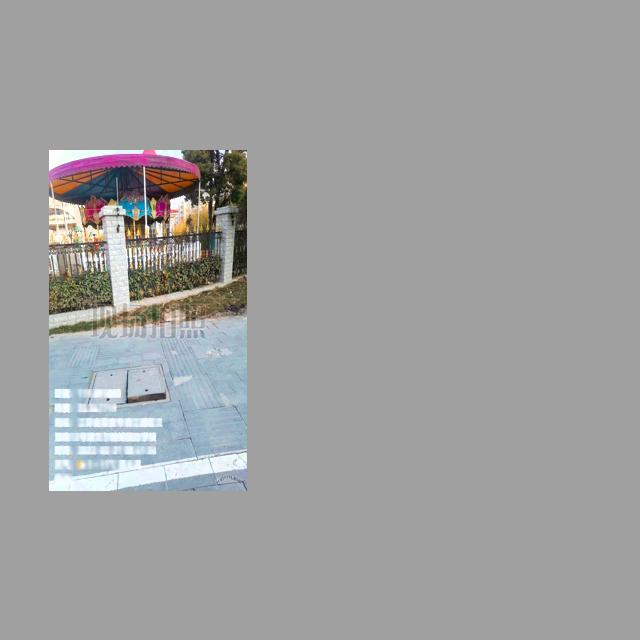uncovered: (81, 364, 172, 412)
